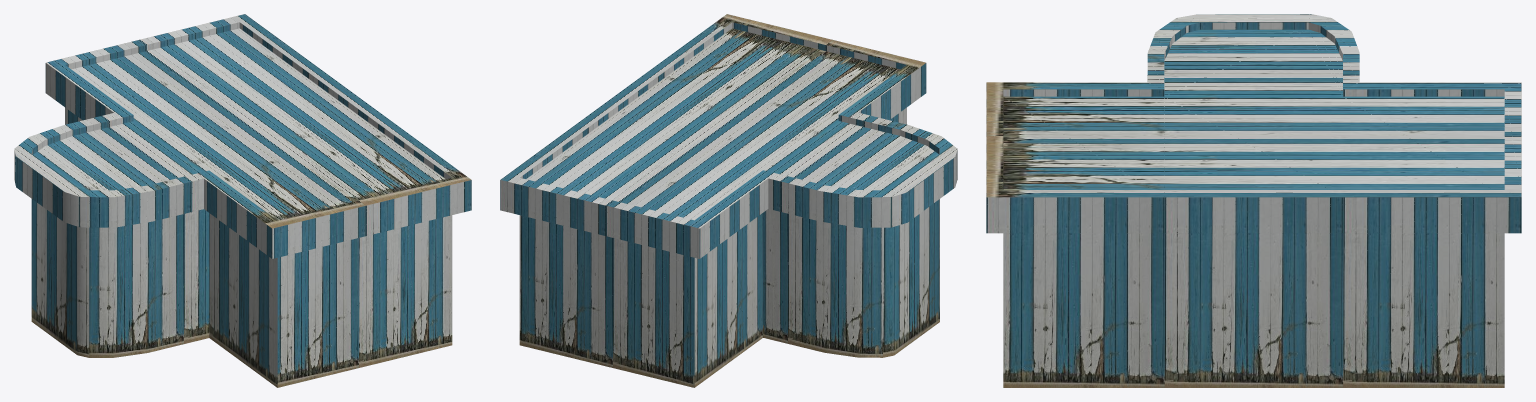
Rendered from Ticket-stand.FBX.
3 views of the same model, side by side, from view 1: azimuth 30°, elevation 25°; view 2: azimuth 150°, elevation 25°; view 3: azimuth 270°, elevation 25° (orthographic). The views are drawn at different scales.
Parts seen in each view (by area): view 1: Box001; view 2: Box001; view 3: Box001.
Part boxes in pixels (left/top/right/bottom): Box001: left=14, top=14, right=471, bottom=387; Box001: left=500, top=14, right=957, bottom=387; Box001: left=986, top=14, right=1521, bottom=387.
Size of the model in its own units: 5.46 by 2.75 by 6.74.
1 material, 1 textured.
